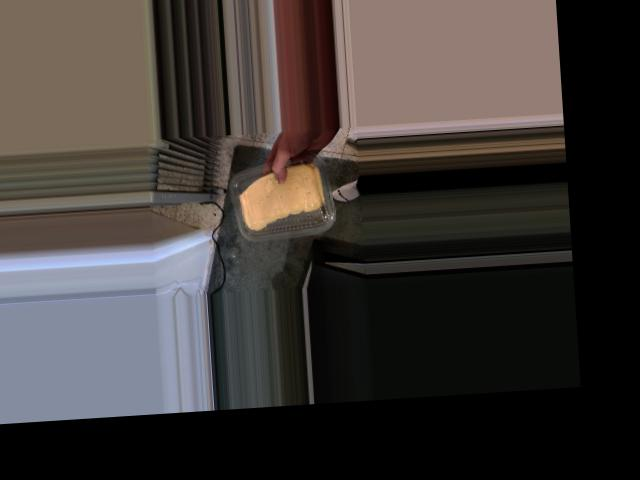cheese: (230, 156, 335, 235)
